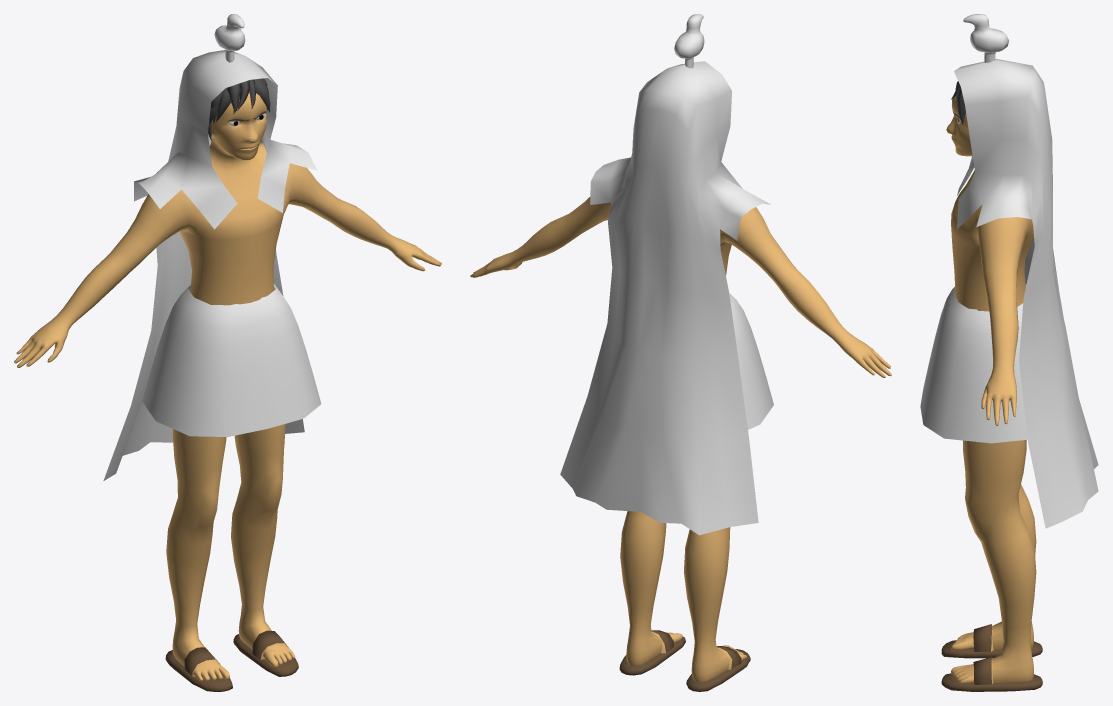
Rendered from modelo prota riggeado con mixamp.fbx.
3 renders of one model, left to right at view 1: azimuth 30°, elevation 25°; view 2: azimuth 150°, elevation 25°; view 3: azimuth 270°, elevation 25°, orthographic.
Visible parts, largest first — view 1: Protagonist, falda, capa, Hair, pato; view 2: capa, Protagonist, falda, pato; view 3: capa, Protagonist, falda, pato, Hair.
Part boxes in pixels (left/top/right/bottom): Protagonist: left=14, top=91, right=441, bottom=691; falda: left=142, top=284, right=321, bottom=436; capa: left=103, top=50, right=317, bottom=480; Hair: left=208, top=78, right=270, bottom=140; pato: left=214, top=14, right=245, bottom=62; capa: left=560, top=61, right=770, bottom=535; Protagonist: left=470, top=197, right=891, bottom=691; falda: left=729, top=293, right=773, bottom=429; pato: left=674, top=14, right=704, bottom=68; capa: left=954, top=59, right=1098, bottom=528; Protagonist: left=941, top=91, right=1042, bottom=691; falda: left=920, top=285, right=1027, bottom=443; pato: left=963, top=14, right=1009, bottom=62; Hair: left=951, top=81, right=965, bottom=123.
Bounding box in the file's own units: 99.78 × 147 × 36.45.
